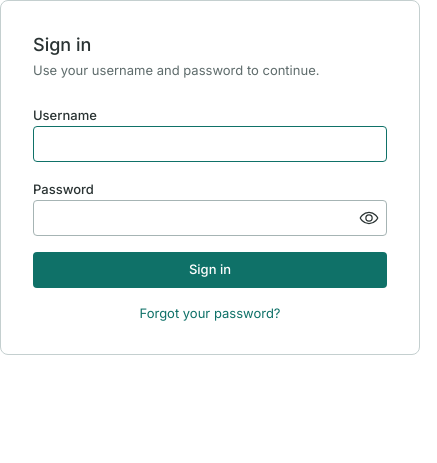
Test: LoginForm › shows a failed sign-in in place instead of navigating
Type "dr.menon" into the field labelled "Username" at (210, 144), box [33, 126, 387, 162]
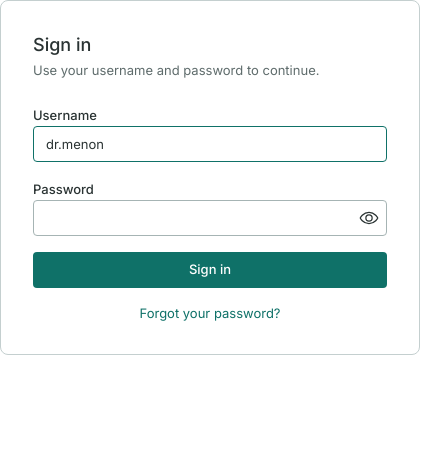
Type "CorrectHorse1!" into the password field labelled "Password" at (210, 218), box [34, 200, 386, 234]
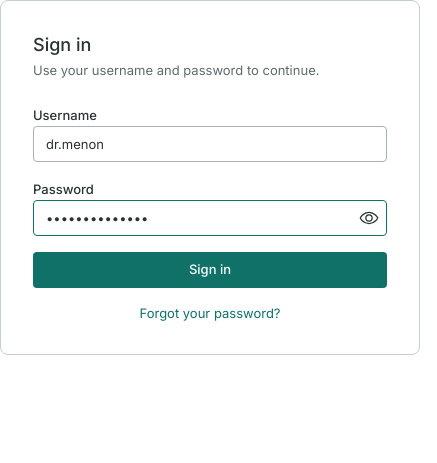
Click the button "Sign in" at (210, 270), box [33, 252, 387, 288]
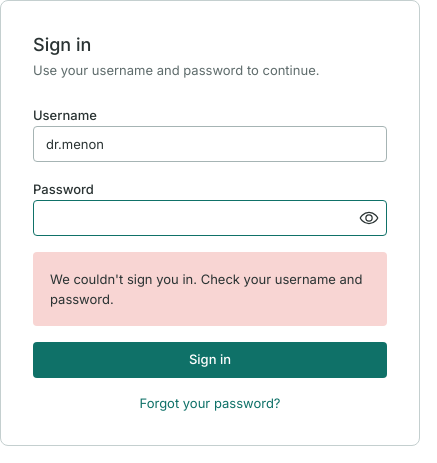
expect the message reads "We couldn't sign you in. Check your username and password.": met, box [50, 270, 362, 307]
expect the password field labelled "Password" is empty: met, box [34, 200, 386, 234]
